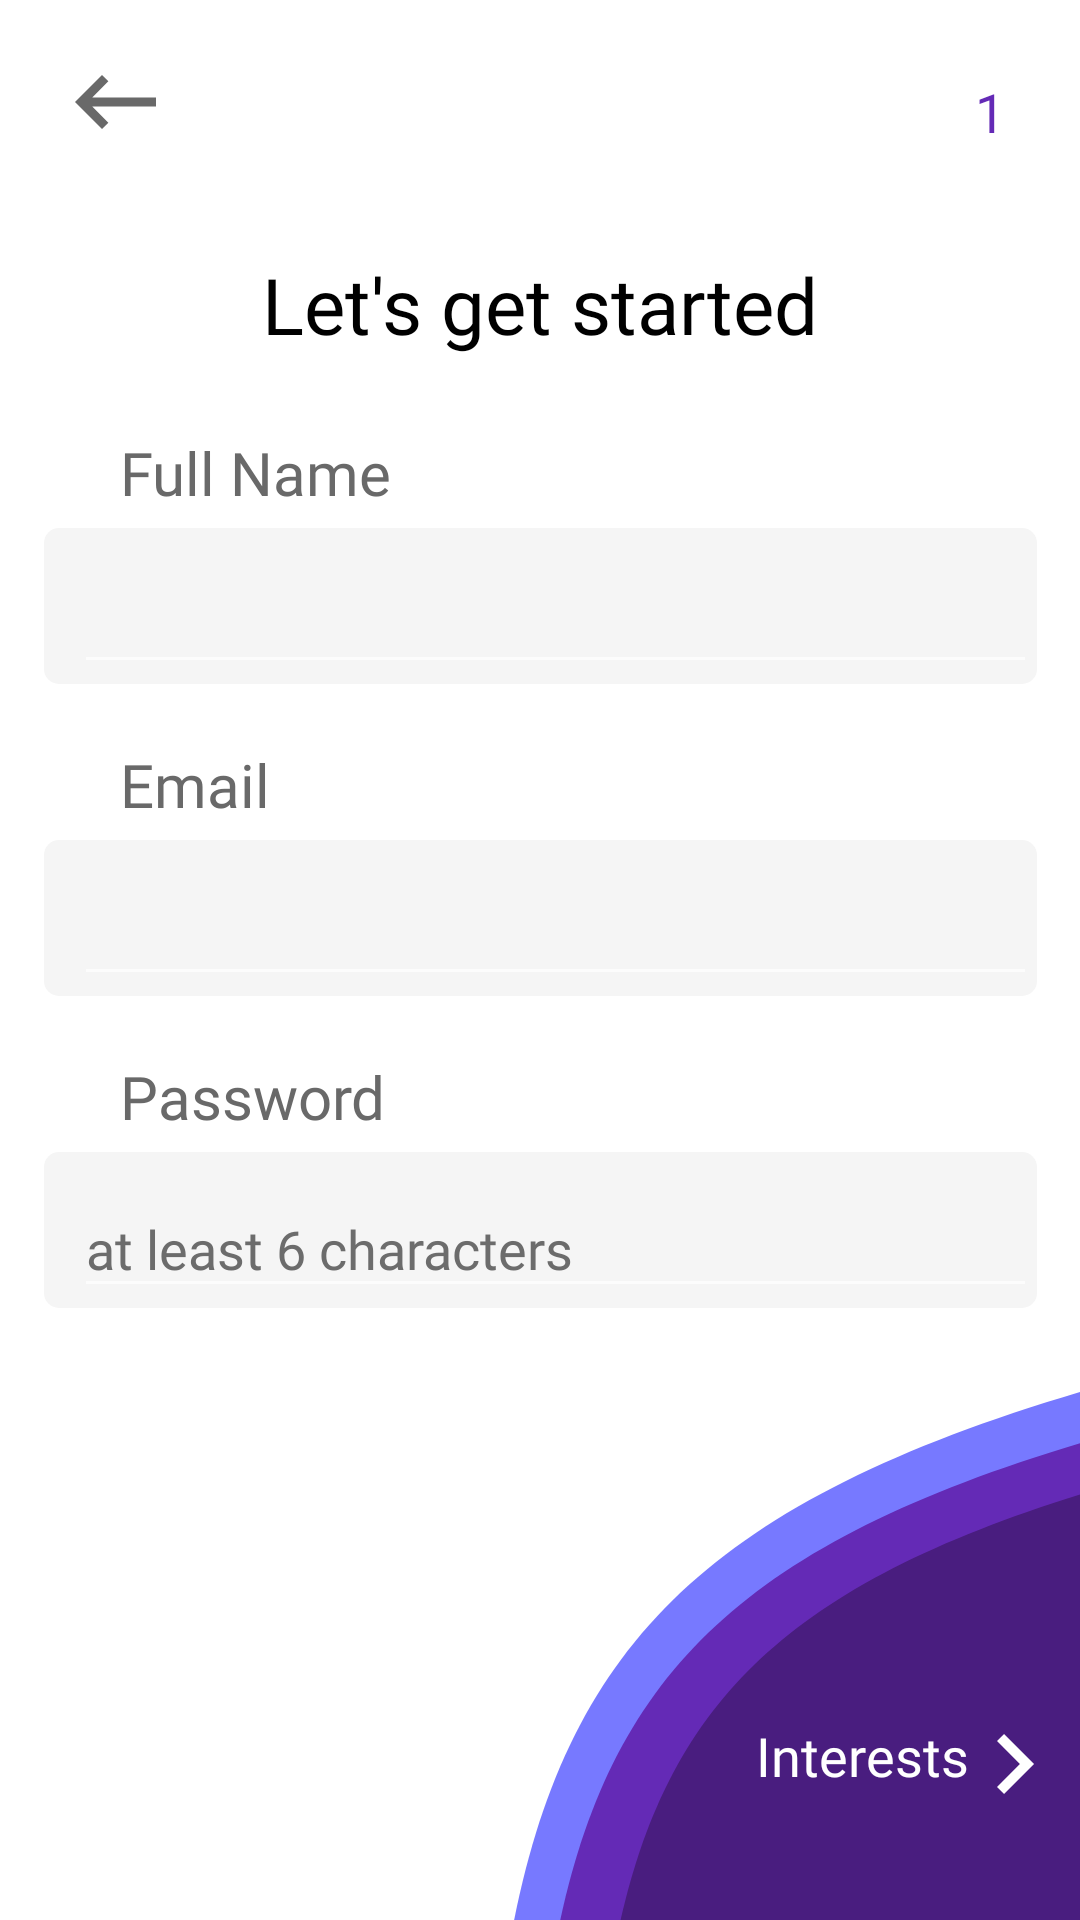

Icon click points for this 1080*1920 phone screenshot, format [x,y]:
back: [115,102]
forward: [1015,1764]
